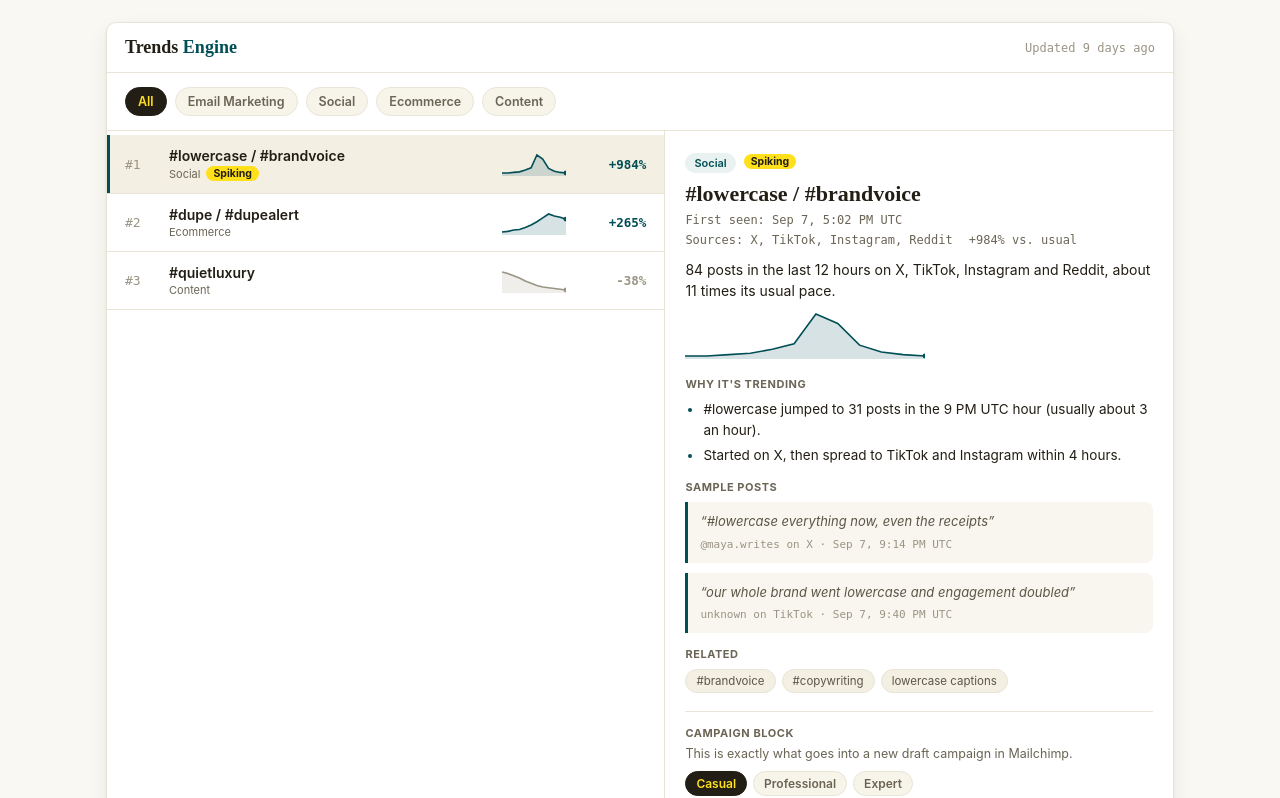
Scenario: insert into campaign: shows what was inserted, the campaign, and a link to the draft
Click the button "Expert". click: (883, 784)
box: [853,771,913,796]
(page scrolled)
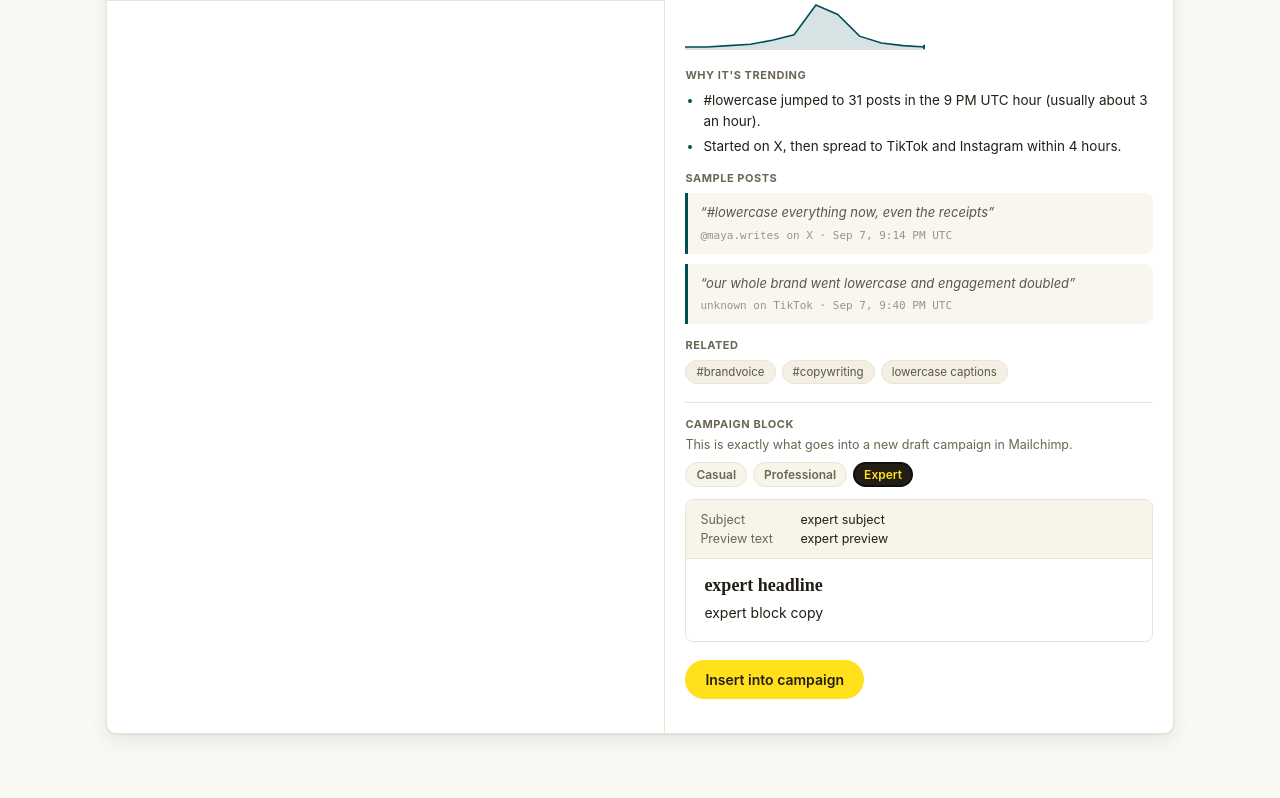
Expected: the text "expert subject" is shown, [800,512,885,527]
Click the button "Insert into campaign". click: (775, 680)
box: [685,660,864,699]
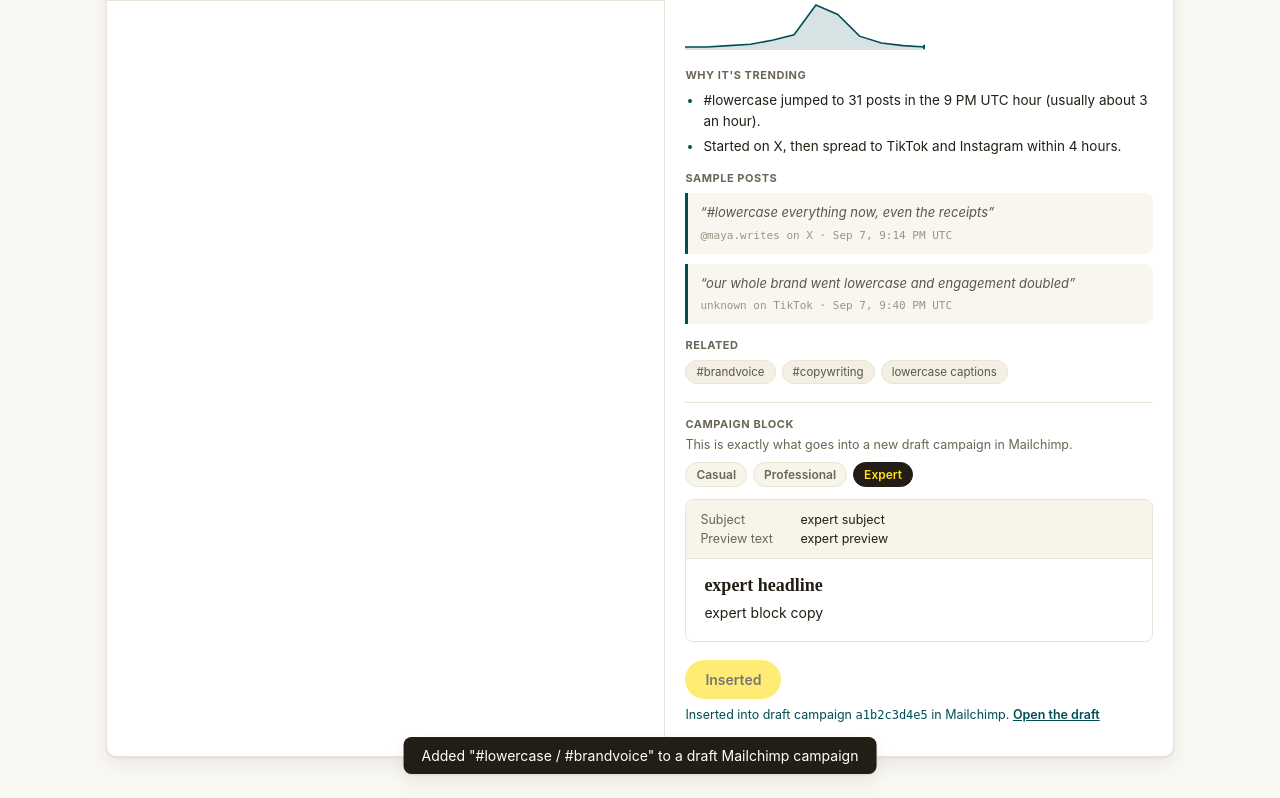
Expected: the text "expert block copy" is shown, [704,604,823,621]
Expected: the button "Inserted" is disabled, [685,660,781,699]
Expected: the text "Inserted into draft campaign a1b2c3d4e5 in Mailchimp. Open the draft" is shown, [685,707,1100,722]
